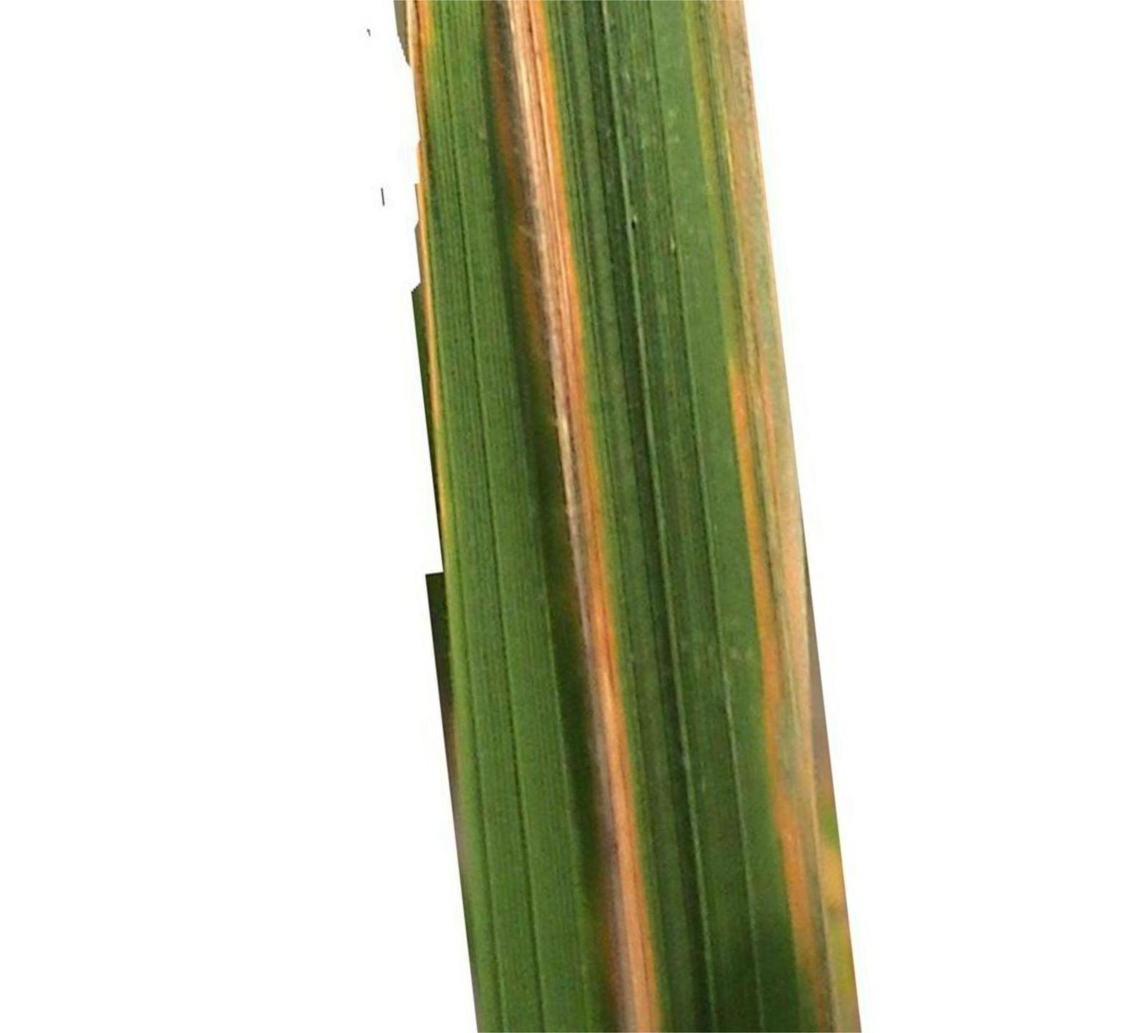BLS: (479, 0, 666, 1032), (687, 0, 861, 1032)
LEAF: (394, 0, 862, 1032)
